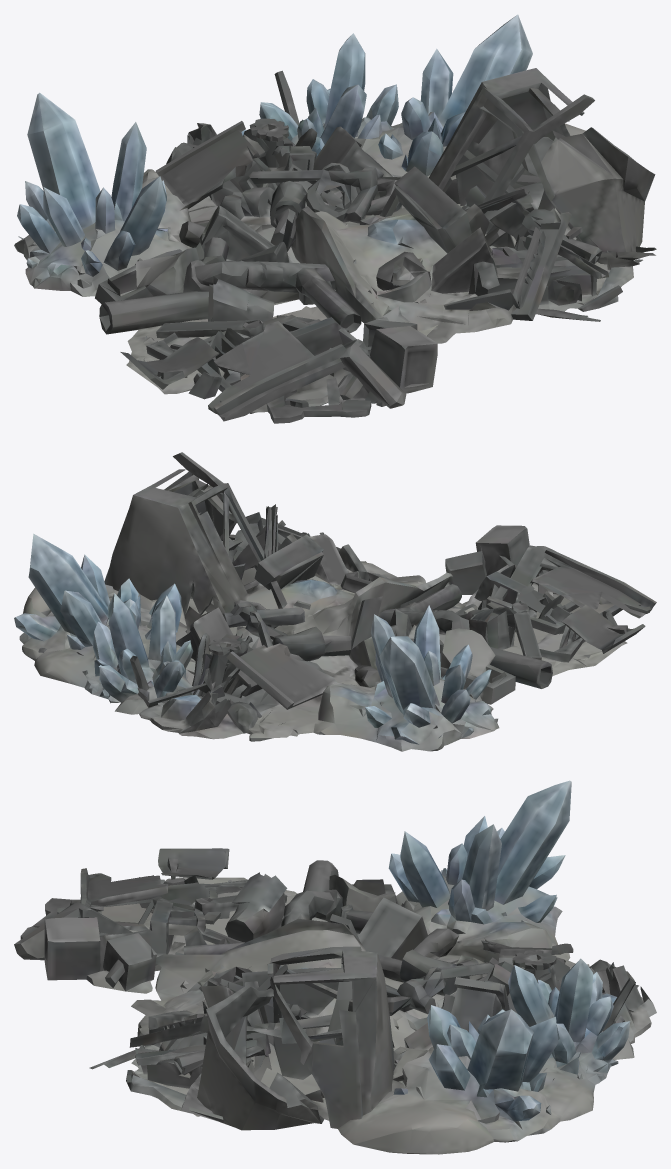
File: decor.crystal_scrap.glb
The picture shows the model from 3 angles, top to bottom: view 1: azimuth 30°, elevation 25°; view 2: azimuth 150°, elevation 25°; view 3: azimuth 270°, elevation 25°; orthographic projection. The views are drawn at different scales.
Visible parts, largest first — view 1: body; view 2: body; view 3: body.
Boxes of the visible parts, left/top/right/bottom form: body: left=14, top=14, right=656, bottom=423; body: left=14, top=452, right=656, bottom=751; body: left=14, top=780, right=656, bottom=1154.
Size of the model in its own units: 1.8 by 0.4334 by 1.71.
1 material, 1 textured.
